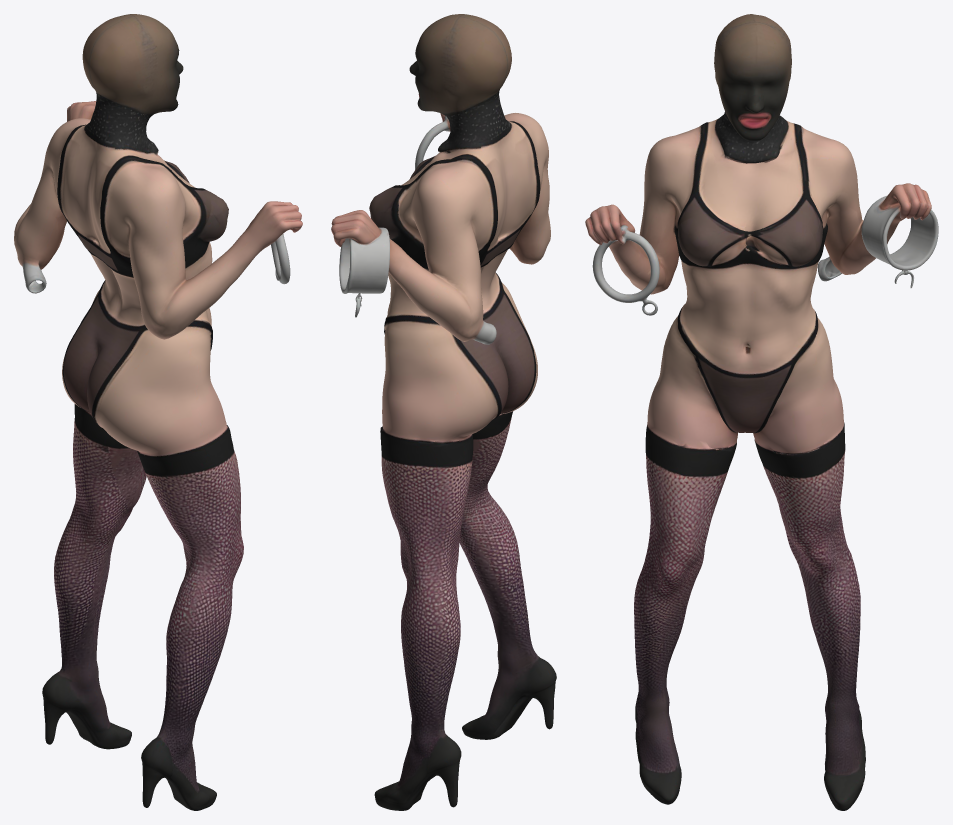
The picture shows the model from 3 angles, left to right: view 1: azimuth 30°, elevation 25°; view 2: azimuth 150°, elevation 25°; view 3: azimuth 270°, elevation 25°; orthographic projection.
Visible parts, largest first — view 1: tripo_node_d11e4316-299a-457e-9410-4a519f1486c2; view 2: tripo_node_d11e4316-299a-457e-9410-4a519f1486c2; view 3: tripo_node_d11e4316-299a-457e-9410-4a519f1486c2.
Boxes of the visible parts, bbox=[...] form: tripo_node_d11e4316-299a-457e-9410-4a519f1486c2: bbox=[14, 14, 302, 810]; tripo_node_d11e4316-299a-457e-9410-4a519f1486c2: bbox=[331, 14, 556, 810]; tripo_node_d11e4316-299a-457e-9410-4a519f1486c2: bbox=[585, 14, 938, 810].
Bounding box in the file's own units: 0.3874 × 1.7 × 0.7061.
Materials: 1 (1 with a texture image).
